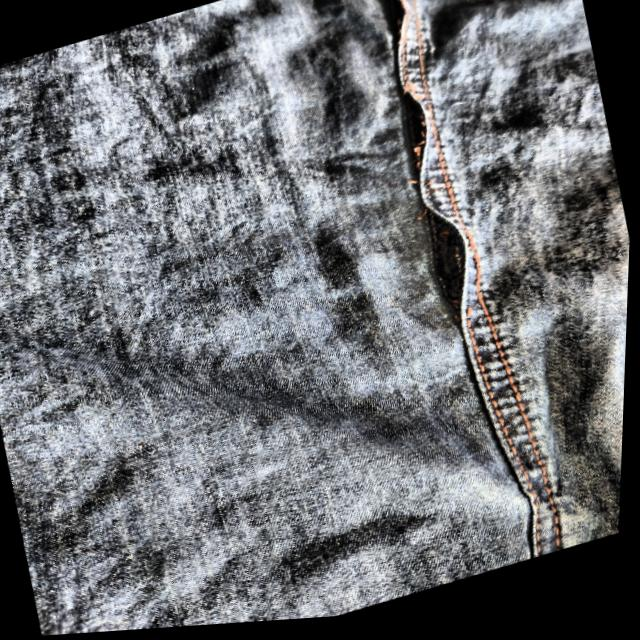seam: (406, 185, 502, 351), (380, 76, 449, 192), (358, 0, 426, 83)
